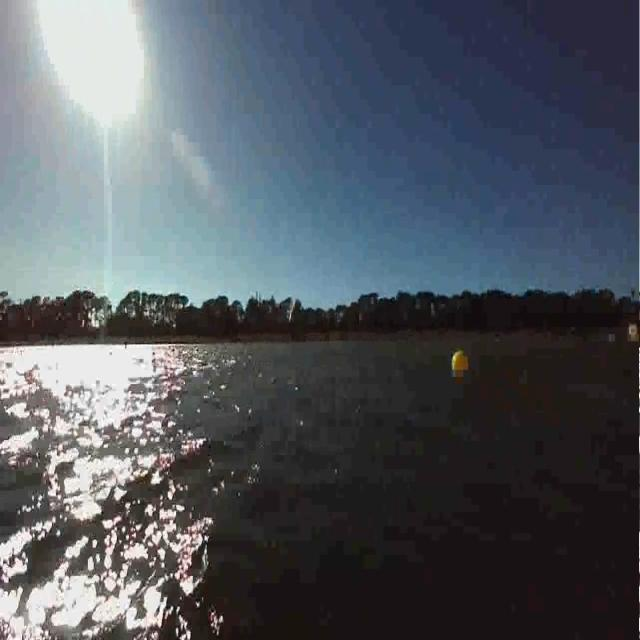yellow-buoy: (453, 350, 469, 373)
